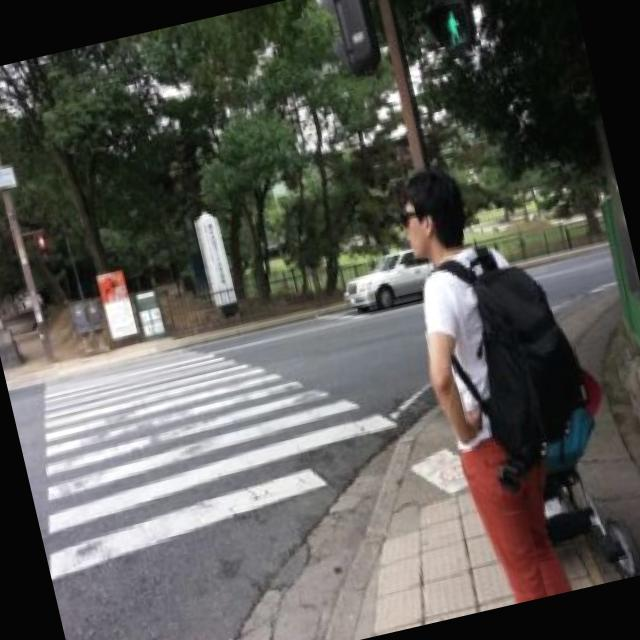Person: (384, 158, 586, 609)
